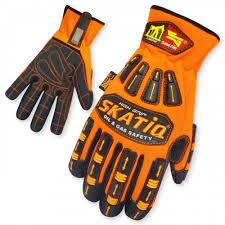gloves: (67, 4, 221, 221), (5, 4, 106, 137)
